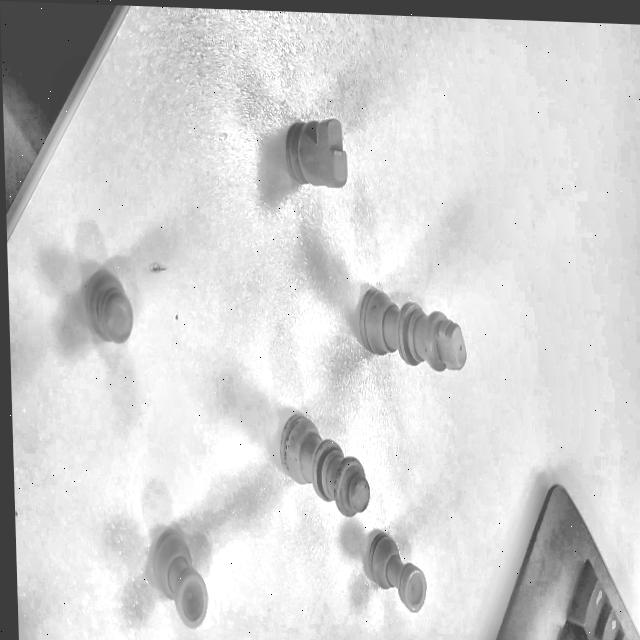white-king: (359, 287, 467, 370)
white-knight: (284, 119, 347, 186)
white-pawn: (83, 266, 133, 343)
white-queen: (280, 412, 369, 515)
white-rook: (152, 528, 208, 626), (366, 531, 426, 611)
